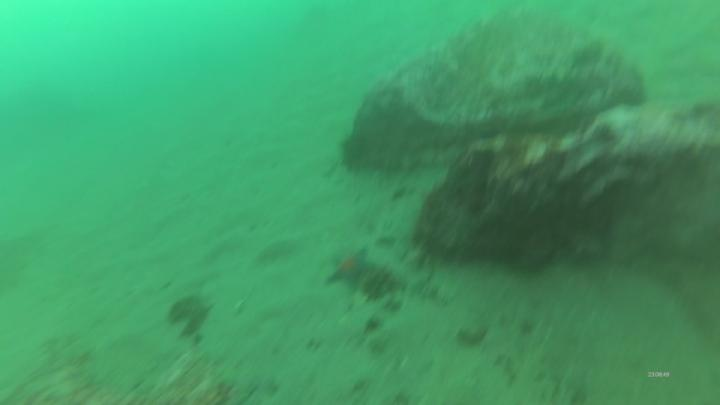starfish: (326, 244, 379, 298)
